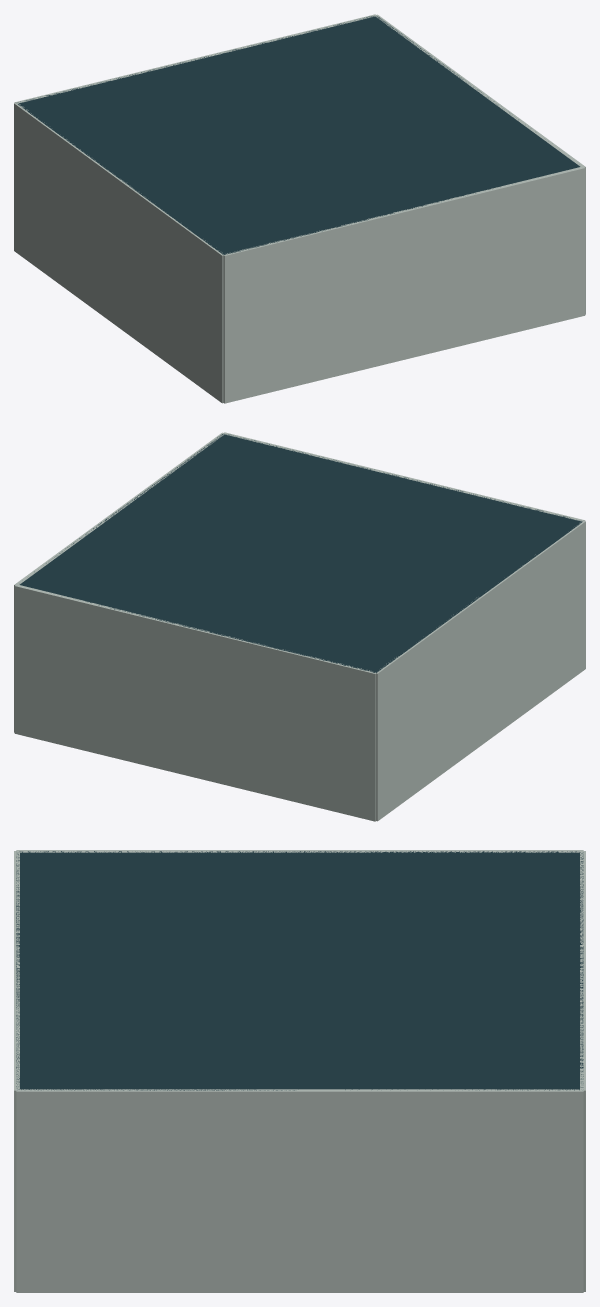
The model's file is arena-medica-revisao.glb.
3 views of the same model, one above another, from view 1: azimuth 30°, elevation 25°; view 2: azimuth 150°, elevation 25°; view 3: azimuth 270°, elevation 25° (orthographic). The views are drawn at different scales.
Parts seen in each view (by area): view 1: Revisao_Pintura_mineral_Acabado.005, Revisao_Revestimento_petroleo_Acabado.005; view 2: Revisao_Pintura_mineral_Acabado.005, Revisao_Revestimento_petroleo_Acabado.005; view 3: Revisao_Revestimento_petroleo_Acabado.005, Revisao_Pintura_mineral_Acabado.005.
Boxes of the visible parts, bbox=[...] form: Revisao_Pintura_mineral_Acabado.005: bbox=[14, 14, 585, 403]; Revisao_Revestimento_petroleo_Acabado.005: bbox=[17, 16, 580, 254]; Revisao_Pintura_mineral_Acabado.005: bbox=[14, 432, 585, 821]; Revisao_Revestimento_petroleo_Acabado.005: bbox=[19, 434, 582, 672]; Revisao_Revestimento_petroleo_Acabado.005: bbox=[16, 851, 583, 1090]; Revisao_Pintura_mineral_Acabado.005: bbox=[14, 850, 585, 1292].
Bounding box in the file's own units: 9.28 × 3.6 × 9.28.
